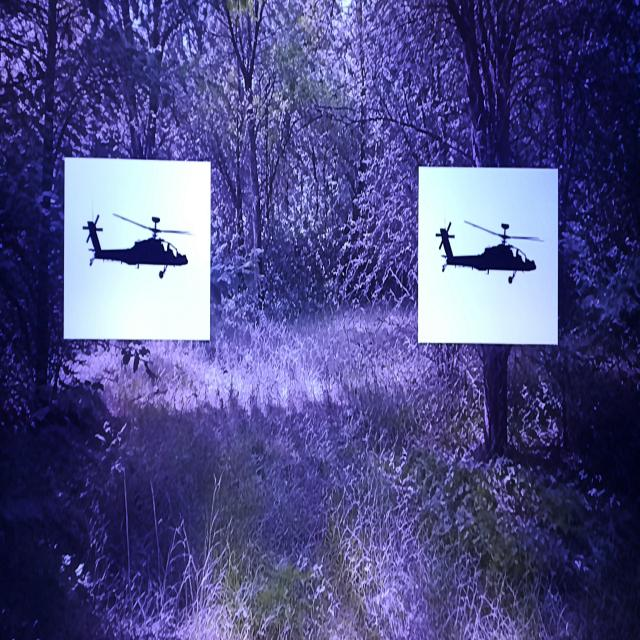Apache friendly: (83, 214, 190, 278), (436, 221, 542, 283)
